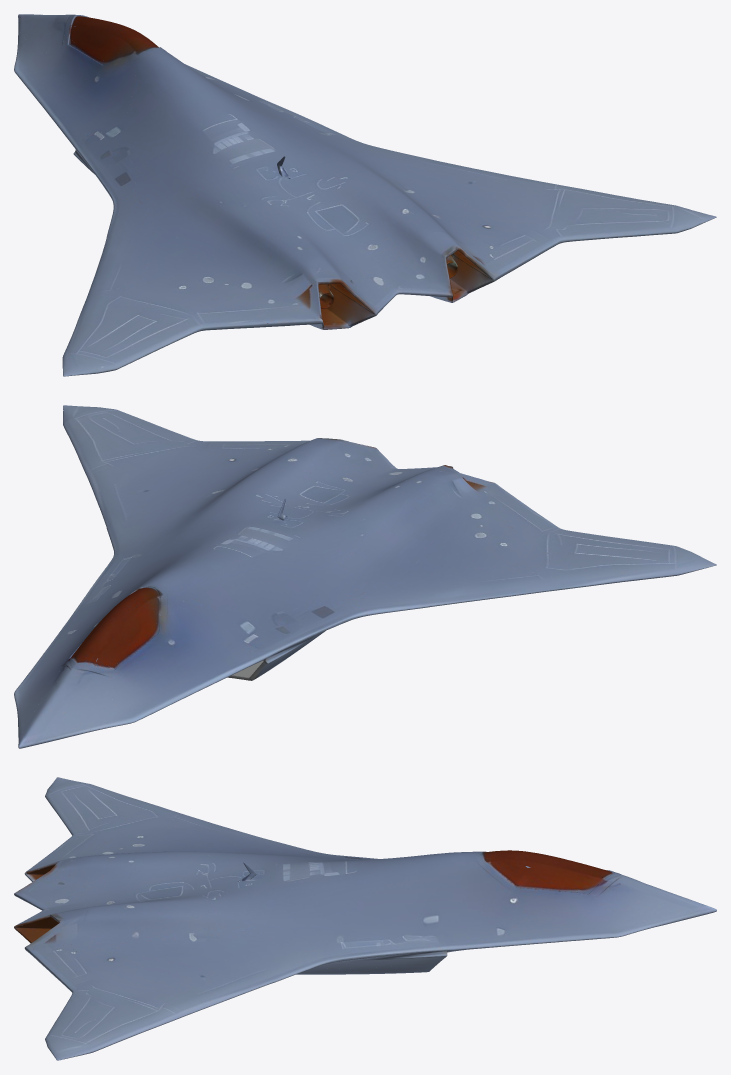
The picture shows the model from 3 angles, top to bottom: view 1: azimuth 30°, elevation 25°; view 2: azimuth 150°, elevation 25°; view 3: azimuth 270°, elevation 25°; orthographic projection. The views are drawn at different scales.
Visible parts, largest first — view 1: A_j50_v3; view 2: A_j50_v3; view 3: A_j50_v3.
Boxes of the visible parts, <box> form: A_j50_v3: <box>14,14,716,376</box>; A_j50_v3: <box>14,405,716,748</box>; A_j50_v3: <box>14,777,716,1060</box>.
Bounding box in the file's own units: 48.04 × 7.39 × 50.4.
Materials: 1 (1 with a texture image).
